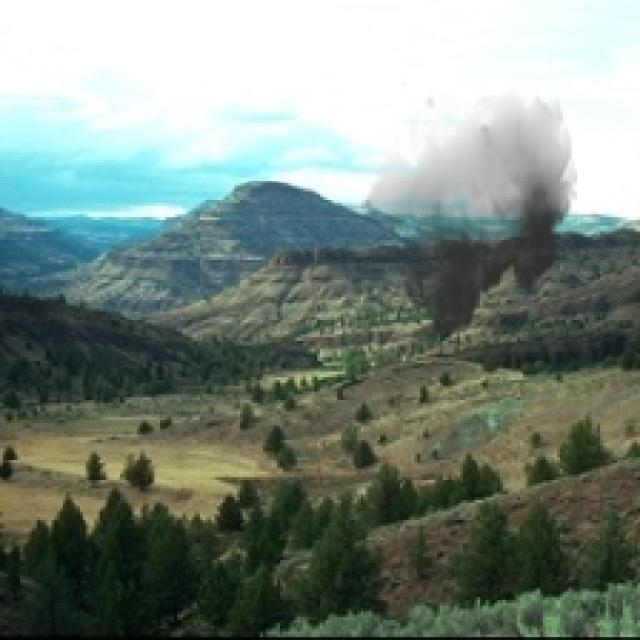smoke: (357, 83, 577, 343)
